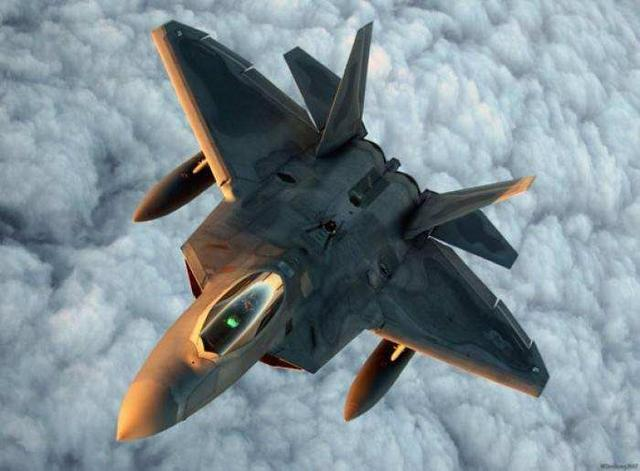airplane: (111, 32, 554, 446)
